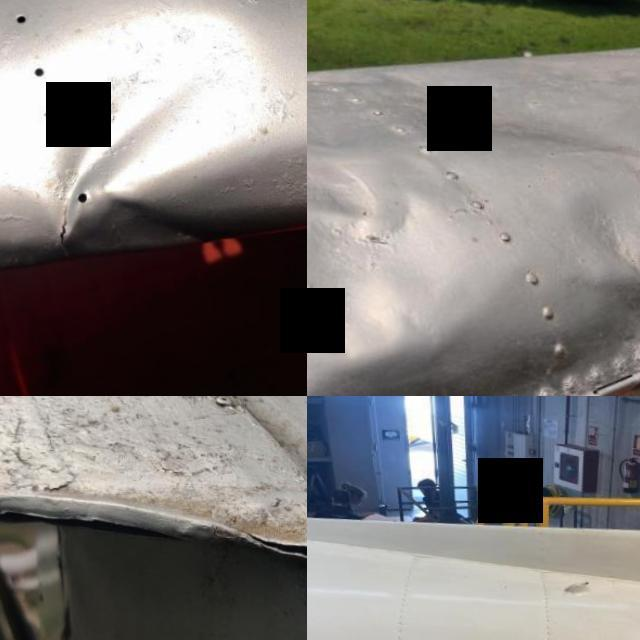Crack: (229, 515, 307, 608), (52, 198, 88, 263)
Dent: (21, 1, 270, 274), (307, 137, 480, 396), (553, 164, 640, 299)
